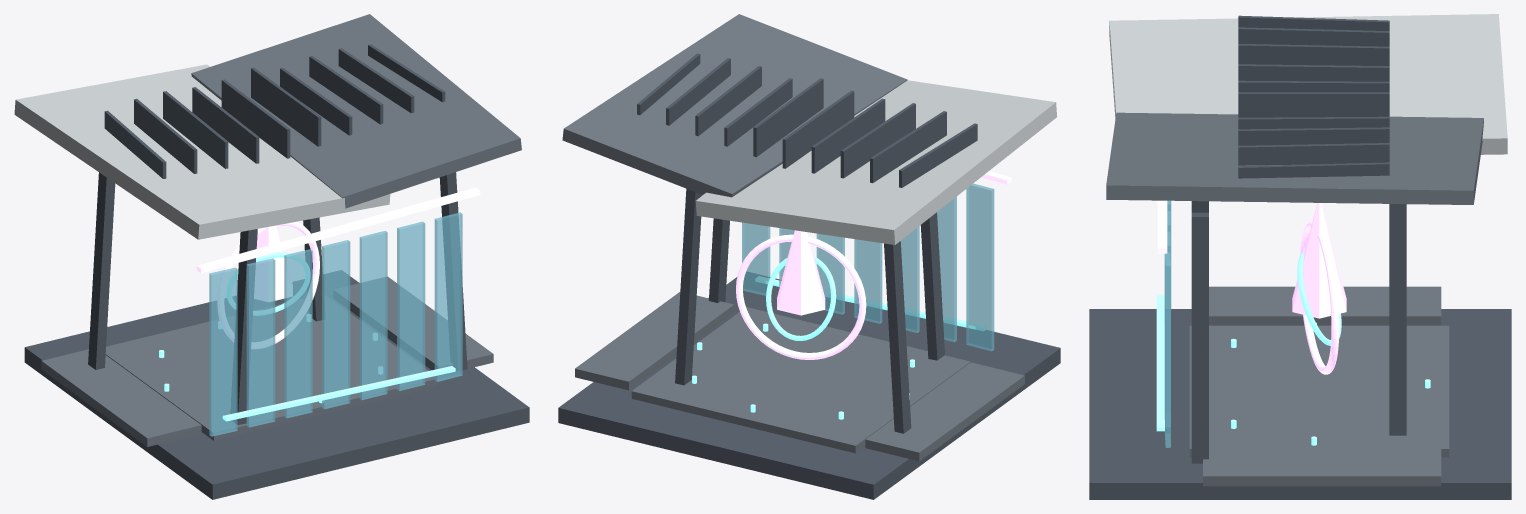
The model's file is design-pavilion-lod0.323c500b977c.glb.
The picture shows the model from 3 angles, left to right: view 1: azimuth 30°, elevation 25°; view 2: azimuth 150°, elevation 25°; view 3: azimuth 270°, elevation 25°; orthographic projection. The views are drawn at different scales.
Visible parts, largest first — view 1: pavilion_base, roof_right, roof_left, pavilion_stage, terrace_-1, terrace_1, glass_facade_1, glass_facade_0, glass_facade_6, glass_facade_2, glass_facade_5, glass_facade_4 (+20 smaller); view 2: roof_right, pavilion_stage, pavilion_base, roof_left, terrace_-1, terrace_1, glass_facade_0, cantilever_pillar_0, cantilever_pillar_2, design_prism_core, design_orbit_outer, cantilever_pillar_1 (+18 smaller); view 3: pavilion_base, pavilion_stage, roof_left, roof_right, terrace_1, terrace_-1, cantilever_pillar_3, cantilever_pillar_2, roof_fin_5, roof_fin_2, roof_fin_8, design_prism_core (+13 smaller).
Boxes of the visible parts, x1=… form: pavilion_base: x1=24, y1=270, x2=529, y2=499; roof_right: x1=191, y1=14, x2=521, y2=208; roof_left: x1=14, y1=64, x2=390, y2=239; pavilion_stage: x1=105, y1=295, x2=438, y2=440; terrace_-1: x1=41, y1=349, x2=201, y2=446; terrace_1: x1=333, y1=276, x2=493, y2=375; glass_facade_1: x1=246, y1=258, x2=275, y2=427; glass_facade_0: x1=209, y1=267, x2=237, y2=436; glass_facade_6: x1=434, y1=212, x2=462, y2=381; glass_facade_2: x1=284, y1=249, x2=312, y2=418; glass_facade_5: x1=397, y1=221, x2=425, y2=390; glass_facade_4: x1=359, y1=231, x2=387, y2=400; roof_right: x1=562, y1=14, x2=907, y2=197; pavilion_stage: x1=631, y1=307, x2=970, y2=453; pavilion_base: x1=558, y1=272, x2=1060, y2=499; roof_left: x1=695, y1=80, x2=1056, y2=244; terrace_-1: x1=865, y1=362, x2=1024, y2=461; terrace_1: x1=575, y1=292, x2=734, y2=390; glass_facade_0: x1=966, y1=183, x2=994, y2=351; cantilever_pillar_0: x1=884, y1=241, x2=911, y2=433; cantilever_pillar_2: x1=675, y1=188, x2=702, y2=385; design_prism_core: x1=777, y1=230, x2=825, y2=315; design_orbit_outer: x1=736, y1=234, x2=866, y2=359; cantilever_pillar_1: x1=920, y1=212, x2=944, y2=360; pavilion_base: x1=1089, y1=309, x2=1511, y2=499; pavilion_stage: x1=1189, y1=325, x2=1449, y2=457; roof_left: x1=1109, y1=14, x2=1507, y2=154; roof_right: x1=1106, y1=112, x2=1483, y2=204; terrace_1: x1=1203, y1=446, x2=1441, y2=486; terrace_-1: x1=1209, y1=286, x2=1441, y2=325; cantilever_pillar_3: x1=1191, y1=212, x2=1208, y2=463; cantilever_pillar_2: x1=1389, y1=204, x2=1406, y2=435; roof_fin_5: x1=1238, y1=92, x2=1389, y2=117; roof_fin_2: x1=1238, y1=44, x2=1389, y2=66; roof_fin_8: x1=1238, y1=143, x2=1389, y2=165; design_prism_core: x1=1292, y1=203, x2=1346, y2=318.
Bounding box in the file's own units: 8.33 × 6.69 × 7.8.
